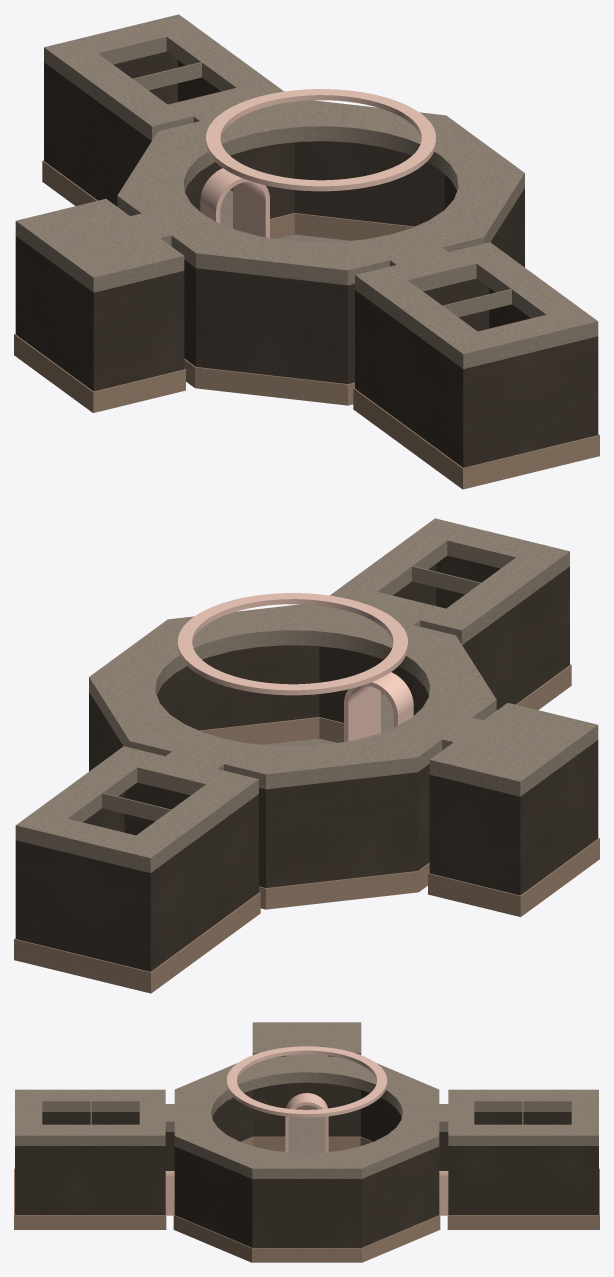
The model's file is MUVLELow.glb.
The picture shows the model from 3 angles, top to bottom: view 1: azimuth 30°, elevation 25°; view 2: azimuth 150°, elevation 25°; view 3: azimuth 270°, elevation 25°; orthographic projection. The views are drawn at different scales.
Parts seen in each view (by area): view 1: MUVLE_Toroide; view 2: MUVLE_Toroide; view 3: MUVLE_Toroide.
Part boxes in pixels (x1,y1,x2,y2): MUVLE_Toroide: (14, 14, 599, 489); MUVLE_Toroide: (14, 518, 599, 993); MUVLE_Toroide: (14, 1022, 599, 1262).
Size of the model in its own units: 15.15 by 6.06 by 25.48.
5 materials, 5 textured.
